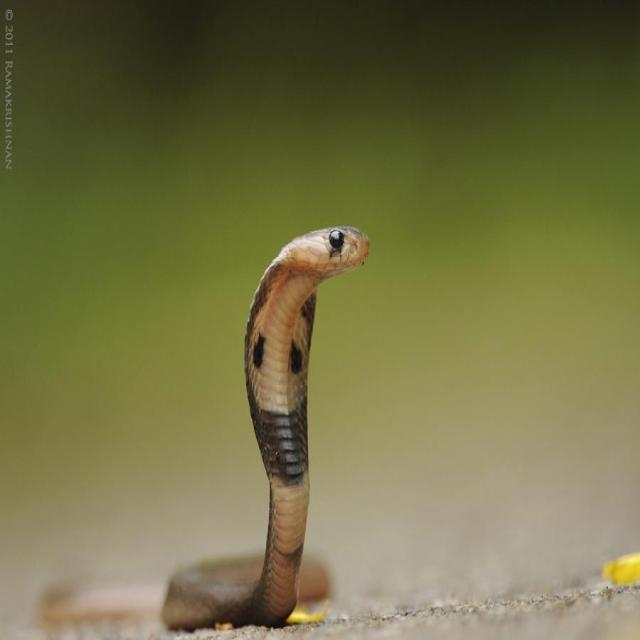Snake: (160, 222, 370, 630)
